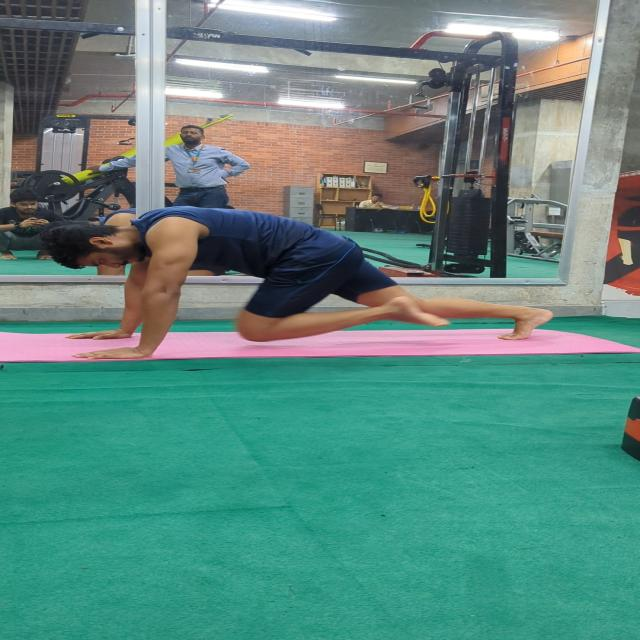Normal_MountainClimbers: (26, 198, 578, 383)
